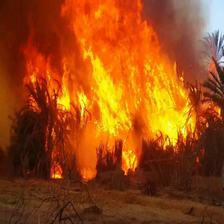fire: (10, 2, 209, 185)
